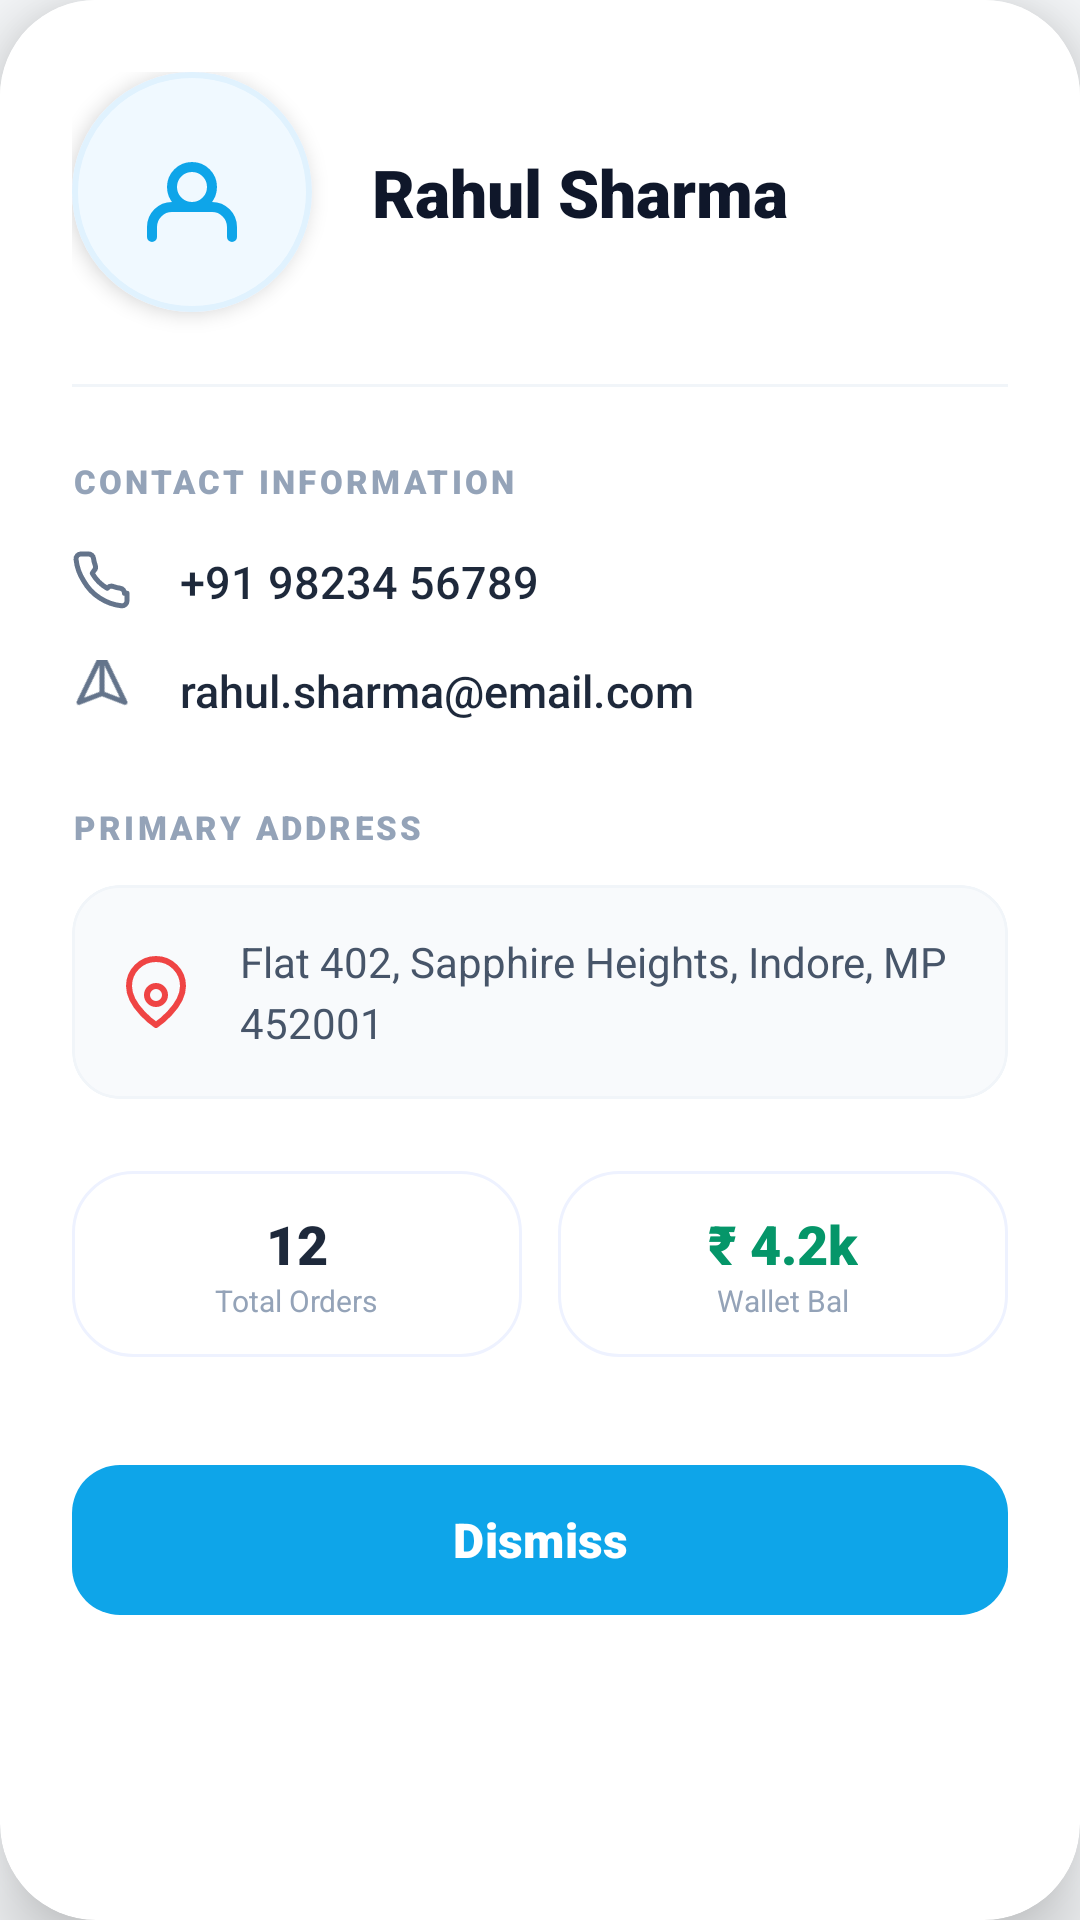

Screen size 1080px x 1920px. Icon name, then its center in pixels as point (x, y):
phone: point (101, 580)
pin: point (156, 992)
user: point (192, 192)
